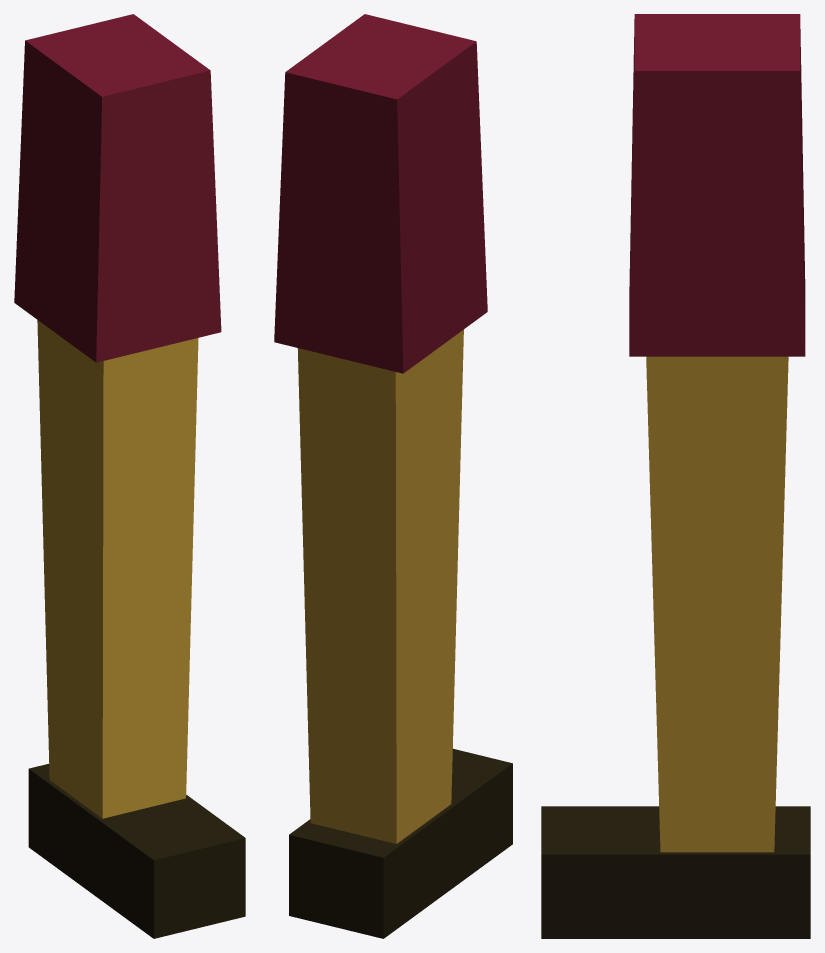
The model's file is leg_k27.glb.
The picture shows the model from 3 angles, left to right: view 1: azimuth 30°, elevation 25°; view 2: azimuth 150°, elevation 25°; view 3: azimuth 270°, elevation 25°; orthographic projection. The views are drawn at different scales.
Parts seen in each view (by area): view 1: leg_kit; view 2: leg_kit; view 3: leg_kit.
Part boxes in pixels (x1,y1,x2,y2): leg_kit: [14, 14, 245, 938]; leg_kit: [274, 14, 512, 938]; leg_kit: [541, 14, 810, 938].
Bounding box in the file's own units: 0.15 × 0.93 × 0.26.
